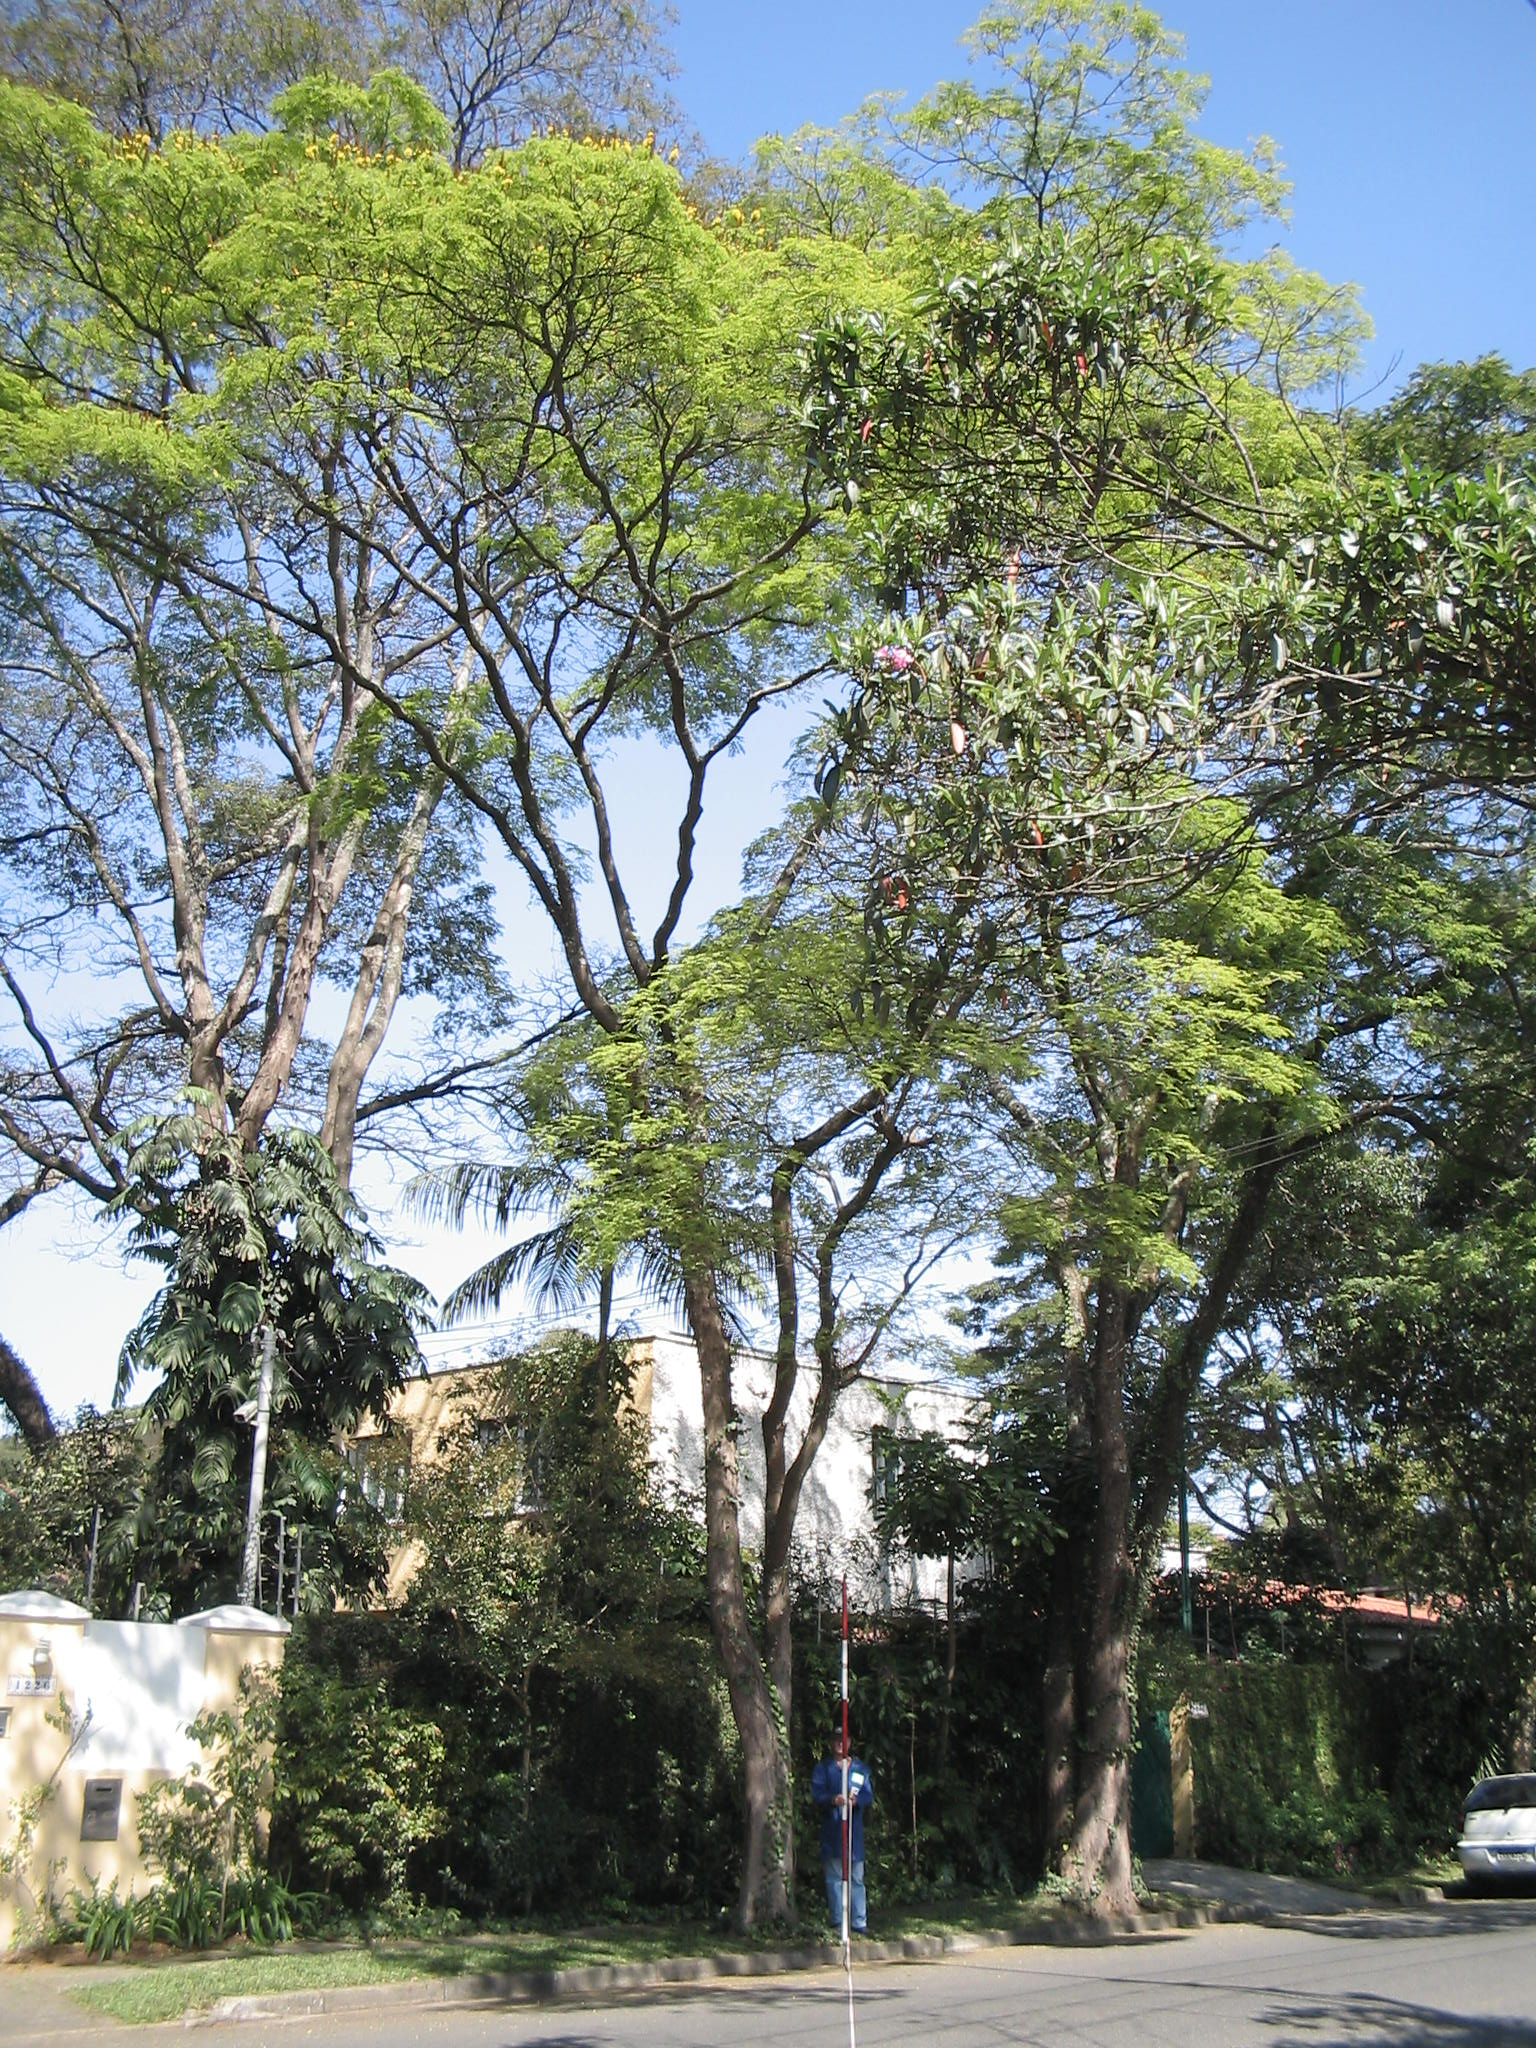crown: (15, 76, 1375, 1340)
stem: (1007, 1584, 1207, 1917), (712, 1675, 829, 1934)
stick: (808, 1571, 886, 1942)
tree: (2, 74, 1383, 1940), (966, 874, 1501, 1913)
